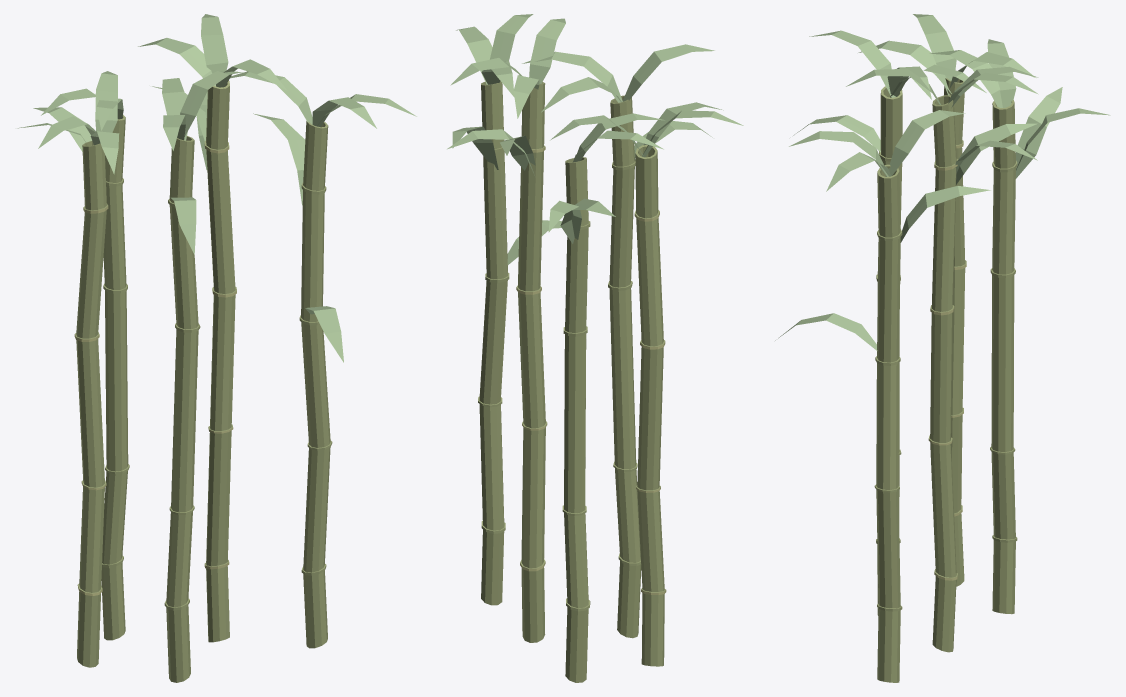
File: ER_Asset_Bamboo_half01.fbx
3 views of the same model, side by side, from view 1: azimuth 30°, elevation 25°; view 2: azimuth 150°, elevation 25°; view 3: azimuth 270°, elevation 25° (orthographic).
Parts seen in each view (by area): view 1: polySurface6518; view 2: polySurface6518; view 3: polySurface6518.
Part boxes in pixels (box(x1,y1,x2,y2)): polySurface6518: box(17, 14, 416, 682); polySurface6518: box(447, 14, 743, 682); polySurface6518: box(775, 14, 1110, 682).
Bounding box in the file's own units: 3.28 × 5.55 × 2.92.
